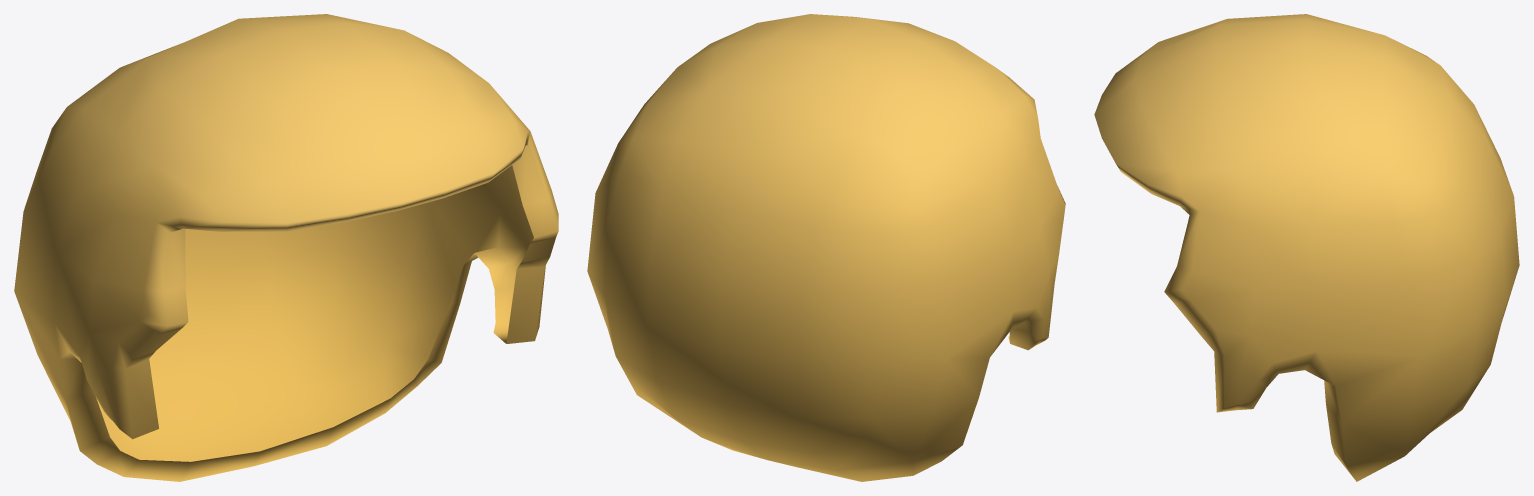
The model's file is Hair_Yellow_1.fbx.
The picture shows the model from 3 angles, left to right: view 1: azimuth 30°, elevation 25°; view 2: azimuth 150°, elevation 25°; view 3: azimuth 270°, elevation 25°; orthographic projection. The views are drawn at different scales.
Visible parts, largest first — view 1: Hair_Yellow_1; view 2: Hair_Yellow_1; view 3: Hair_Yellow_1.
Boxes of the visible parts, <box> form: Hair_Yellow_1: <box>14,14,558,481</box>; Hair_Yellow_1: <box>587,14,1065,481</box>; Hair_Yellow_1: <box>1094,14,1519,481</box>.
Size of the model in its own units: 52.84 by 51.31 by 48.92.
